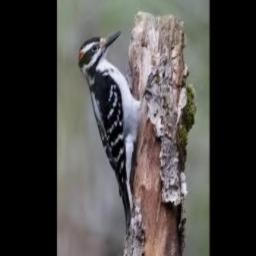Woodpecker: (79, 30, 142, 231)
